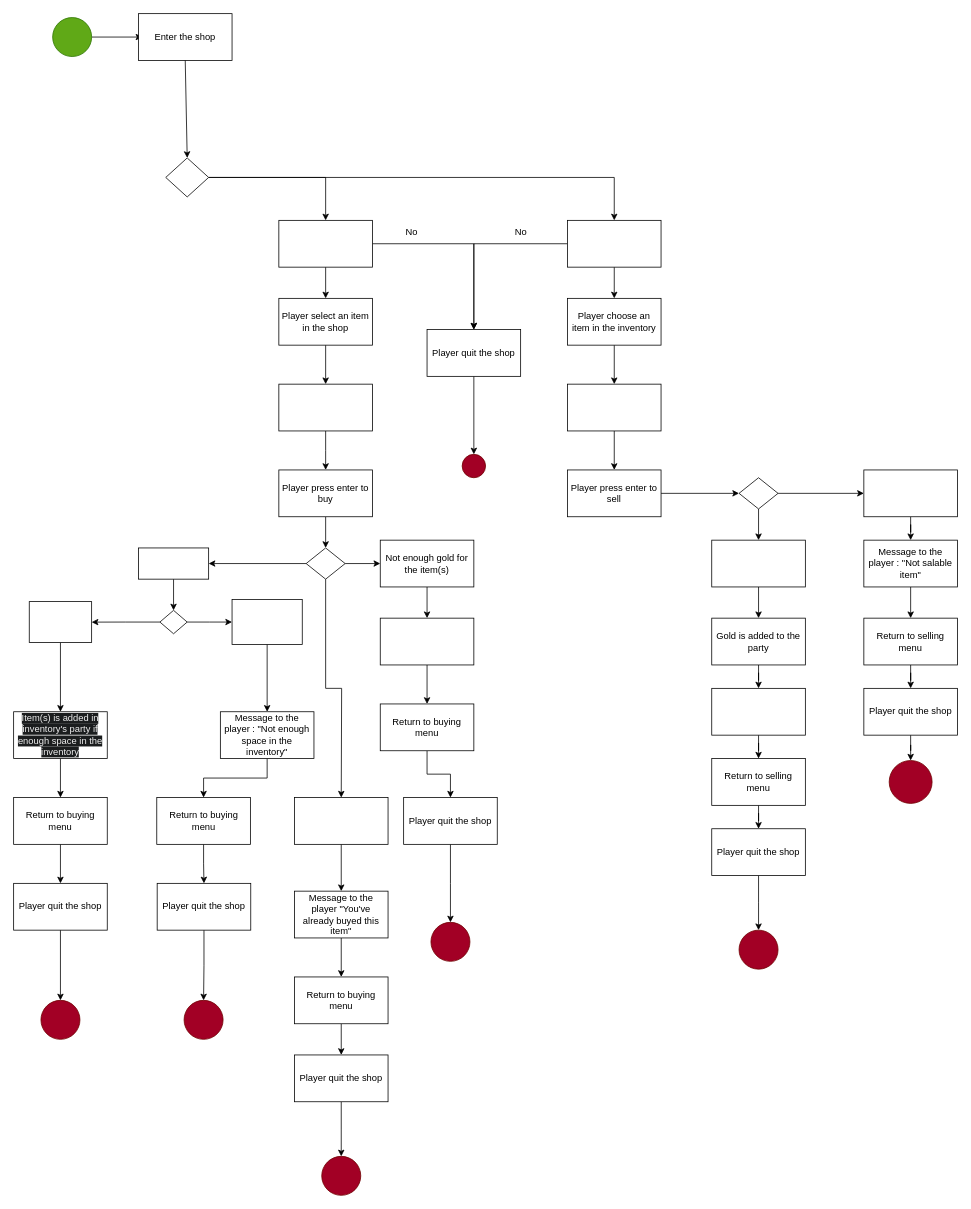
This 971x1209 diagram has some shape labels left out. The centre of each missing label's shape, as x and y in pixels:
Buy: point (325, 243)
Enough gold for the item(s): point (173, 563)
Enough space in the inventory: point (60, 622)
Item(s) is/are removed from inventory's party: point (758, 711)
Message to the player "Not enough gold for this item": point (426, 641)
Not enough space in the inventory: point (266, 621)
Not salable item: point (910, 493)
Player define which amount of item he'd like to sell: point (614, 407)
Player select the number of item he want: point (325, 407)
Salable item: point (758, 563)
Sell: point (614, 243)
Unique item already buyed: point (341, 820)
